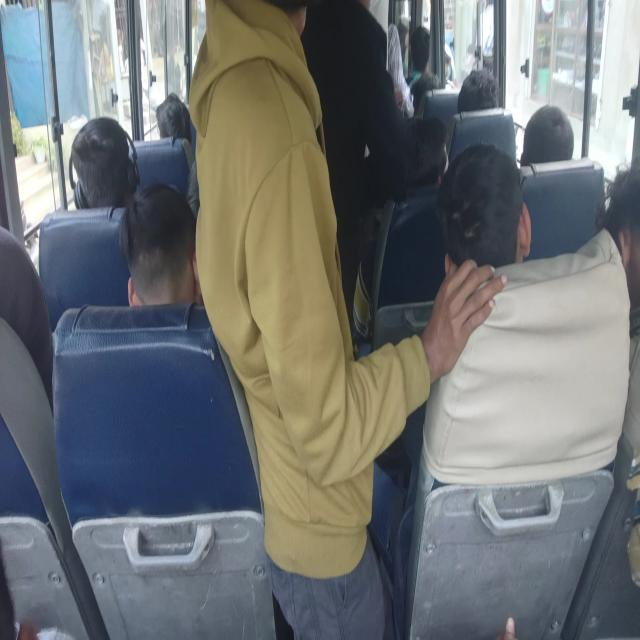person: (208, 2, 336, 357), (320, 0, 400, 169), (436, 155, 518, 291), (0, 230, 54, 416), (126, 196, 197, 306), (595, 181, 640, 327), (71, 128, 138, 208), (416, 111, 453, 184), (528, 112, 572, 172), (155, 98, 190, 160), (463, 76, 504, 124), (376, 12, 408, 66), (409, 21, 438, 72)
